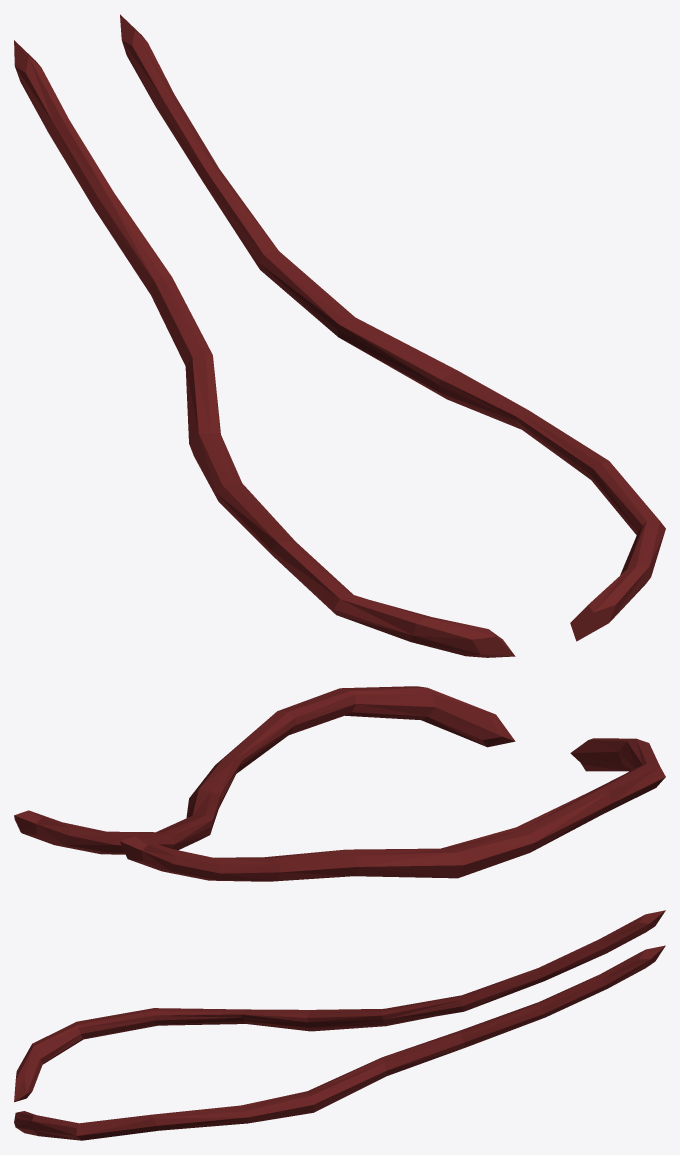
The model's file is Artéria Cerebral Posterior.FBX.
3 renders of one model, top to bottom at view 1: azimuth 30°, elevation 25°; view 2: azimuth 150°, elevation 25°; view 3: azimuth 270°, elevation 25°, orthographic. The views are drawn at different scales.
Parts seen in each view (by area): view 1: CS_Arterie; view 2: CS_Arterie; view 3: CS_Arterie.
Part boxes in pixels (x1=…): CS_Arterie: x1=14, y1=14, x2=665, y2=657; CS_Arterie: x1=14, y1=686, x2=665, y2=881; CS_Arterie: x1=14, y1=910, x2=665, y2=1140.
Size of the model in its own units: 93.81 by 72.63 by 229.
